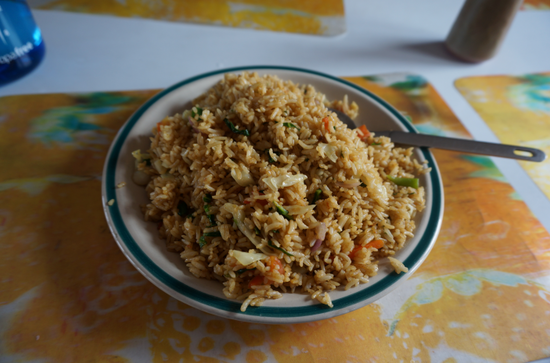plain rice: (177, 111, 376, 258)
